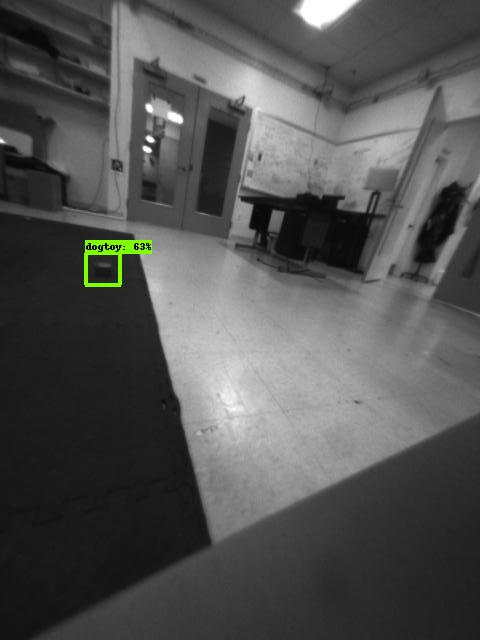dogtoy: (84, 254, 121, 284)
